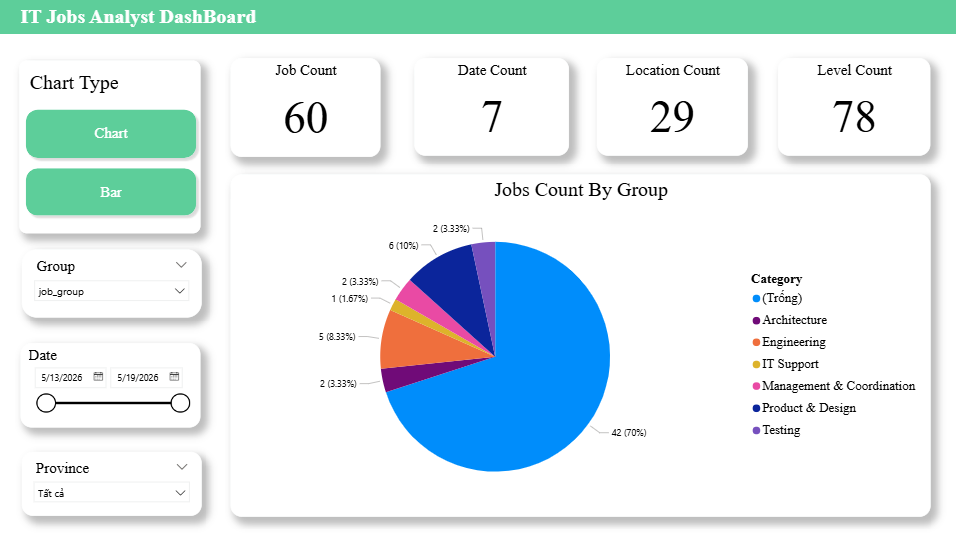

This screenshot's page, from the dashboard's own definition file:
{"tool":"powerbi","page":{"name":"Trang 1","canvas":[1280,720],"ordinal":0},"visuals":[{"type":"slicer","fields":{"Values":["Tham số 2.Tham số"]},"box":[31.4,335.7,240,91.4],"z":0},{"type":"shape","title":"Chart type","box":[28.3,83.3,241.7,230],"z":1000},{"type":"shape","title":"Đ","box":[0,0,1280,48.3],"z":3000},{"type":"pieChart","title":"Jobs Count By Group","fields":{"Category":["public level_mapping.raw_level"],"Y":["CountNonNull(public jobs_clean.id)"]},"box":[310,235,933.3,456.7],"z":4000},{"type":"actionButton","box":[30,141.4,241.4,78.6],"z":5000},{"type":"actionButton","title":"Bar","box":[30,220,241.4,77.1],"z":6000},{"type":"card","title":"Job Count","fields":{"Values":["CountNonNull(public jobs_clean.id)"]},"box":[310,80,200,131.7],"z":7000},{"type":"card","title":"Date Count","fields":{"Values":["CountNonNull(public date_mapping.id)"]},"box":[555,80,206.7,130],"z":8000},{"type":"card","title":"Location Count","fields":{"Values":["CountNonNull(public location_mapping.id)"]},"box":[798.3,80,201.7,130],"z":9000},{"type":"slicer","title":"Date","fields":{"Values":["public date_mapping.clean_date"]},"box":[30,460,240,112.9],"z":10000},{"type":"card","title":"Level Count","fields":{"Values":["CountNonNull(public job_level_mapping.level_id)"]},"box":[1039.9,79.5,202.9,130],"z":11000},{"type":"slicer","fields":{"Values":["public location_mapping.province"]},"box":[31.4,604.3,240,85.7],"z":12000}]}

Visuals, with their boxes in screenshot pixels (x1, y1, x2, y2), scaled from the page's 1280x720 canvas onto the 956x536 screenshot:
slicer - Tham số 2.Tham số: [23, 250, 203, 318]
"Chart type" shape: [21, 62, 202, 233]
"Đ" shape: [0, 0, 955, 36]
"Jobs Count By Group" pieChart: [232, 175, 929, 515]
actionButton: [22, 105, 203, 164]
"Bar" actionButton: [22, 164, 203, 221]
"Job Count" card: [232, 60, 381, 158]
"Date Count" card: [415, 60, 569, 156]
"Location Count" card: [596, 60, 747, 156]
"Date" slicer: [22, 342, 202, 426]
"Level Count" card: [777, 59, 928, 156]
slicer - public location_mapping.province: [23, 450, 203, 514]
